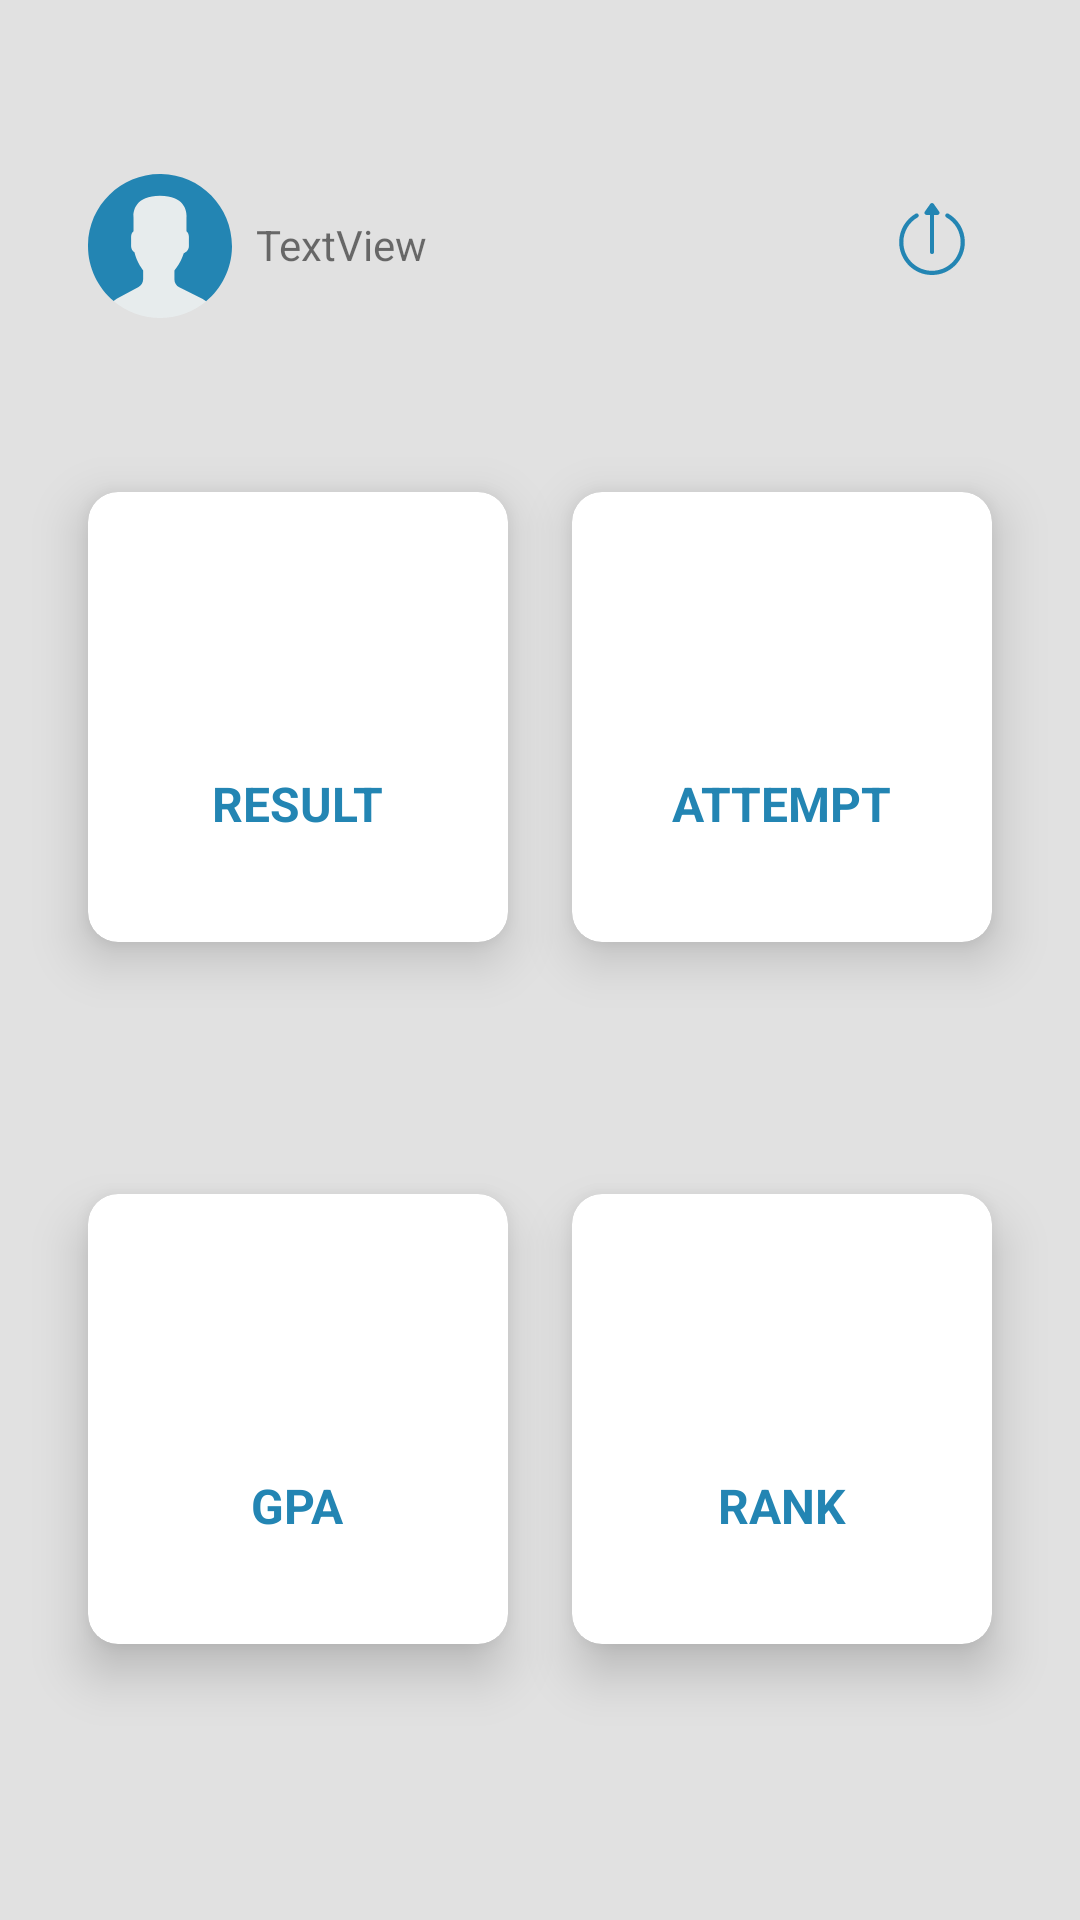

Named icons in this screenshot (1080 x 1920) and their bounding boxes, (x1, y1, x2, y2):
user: (88, 174, 232, 301)
